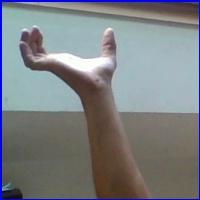space: (15, 19, 129, 91)
